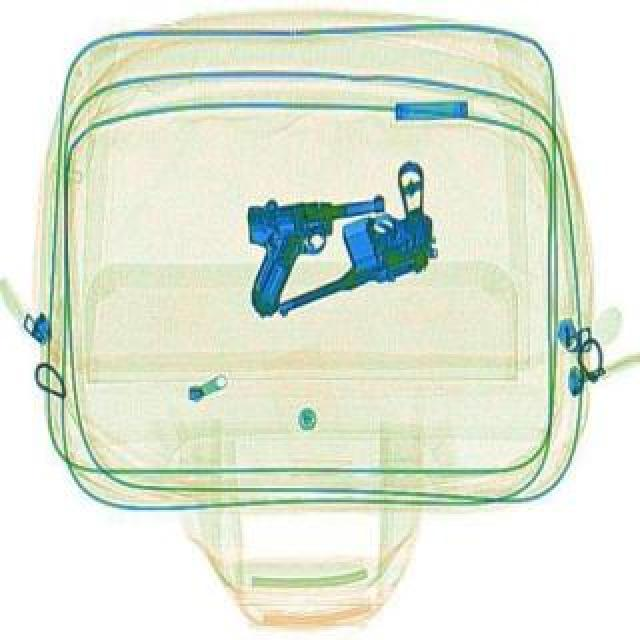gun: (240, 156, 460, 318), (242, 190, 394, 312)
